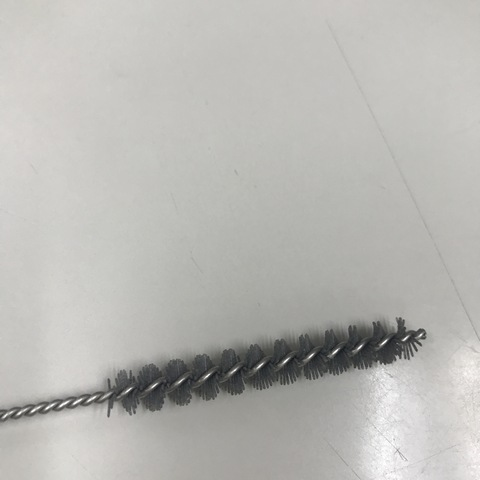Twist Brush-A: (1, 316, 425, 429)
